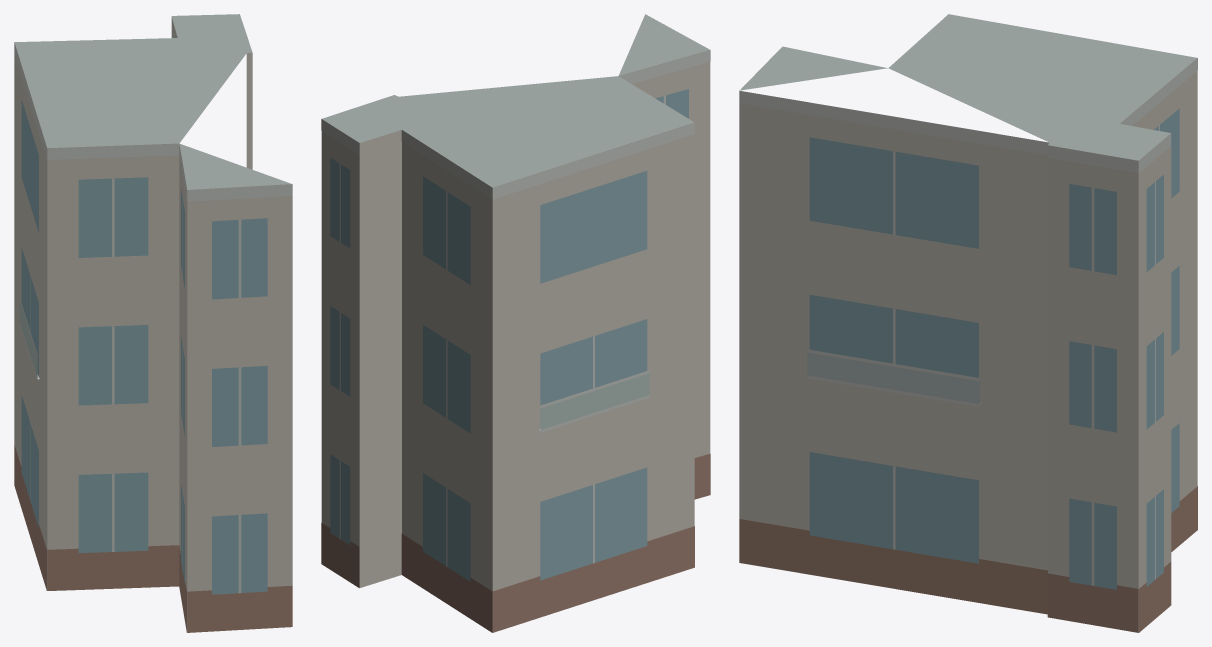
The model's file is survey-upis-32756098.glb.
The picture shows the model from 3 angles, left to right: view 1: azimuth 30°, elevation 25°; view 2: azimuth 150°, elevation 25°; view 3: azimuth 270°, elevation 25°; orthographic projection. The views are drawn at different scales.
Visible parts, largest first — view 1: survey-upis-32756098.tmp; view 2: survey-upis-32756098.tmp; view 3: survey-upis-32756098.tmp.
Part boxes in pixels (<box>): survey-upis-32756098.tmp: <box>14,14,292,632</box>; survey-upis-32756098.tmp: <box>321,14,710,632</box>; survey-upis-32756098.tmp: <box>739,14,1197,632</box>.
Size of the model in its own units: 6.11 by 9.15 by 8.06.
